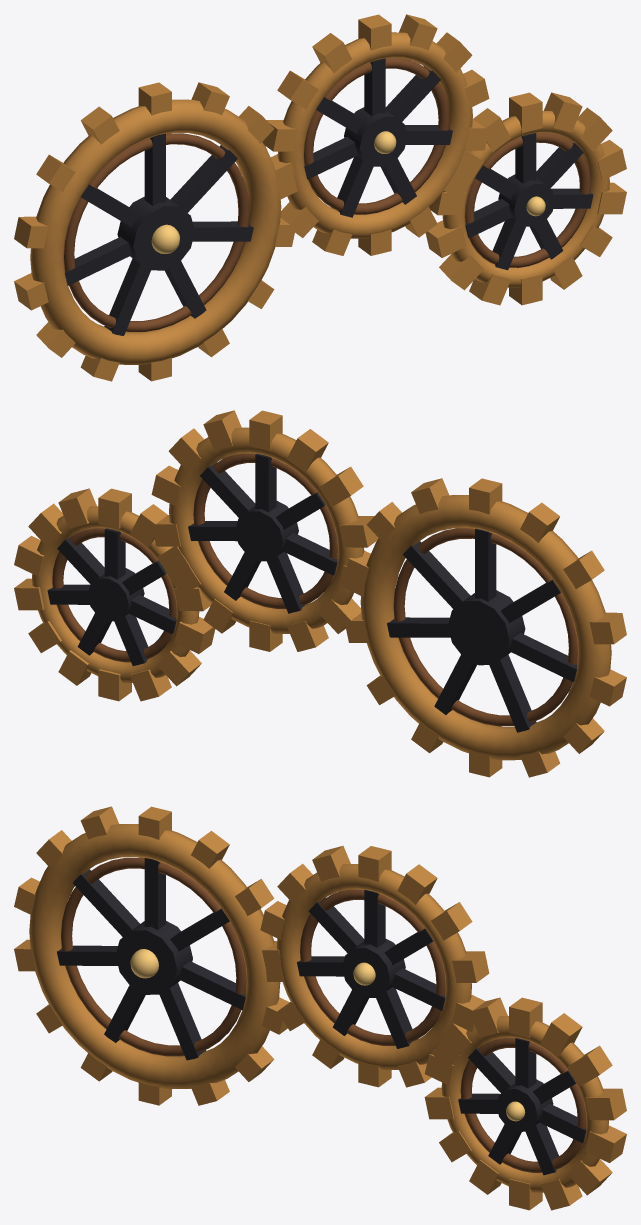
Rendered from mia-gears.glb.
3 views of the same model, one above another, from view 1: azimuth 30°, elevation 25°; view 2: azimuth 150°, elevation 25°; view 3: azimuth 330°, elevation 25° (orthographic).
Parts seen in each view (by area): view 1: Body_brass, Body_iron, Body_rust, Body_trim; view 2: Body_brass, Body_iron, Body_rust; view 3: Body_brass, Body_iron, Body_rust, Body_trim.
Part boxes in pixels (x1,y1,x2,y2): Body_brass: (14,14,626,381); Body_iron: (65,58,593,335); Body_rust: (64,58,590,331); Body_trim: (151,131,545,253); Body_brass: (14,410,626,777); Body_iron: (47,453,576,732); Body_rust: (52,453,577,726); Body_brass: (14,806,626,1210); Body_iron: (57,858,586,1175); Body_rust: (61,857,586,1172); Body_trim: (130,949,525,1121).
Size of the model in its own units: 2.19 by 1.09 by 0.1604.
